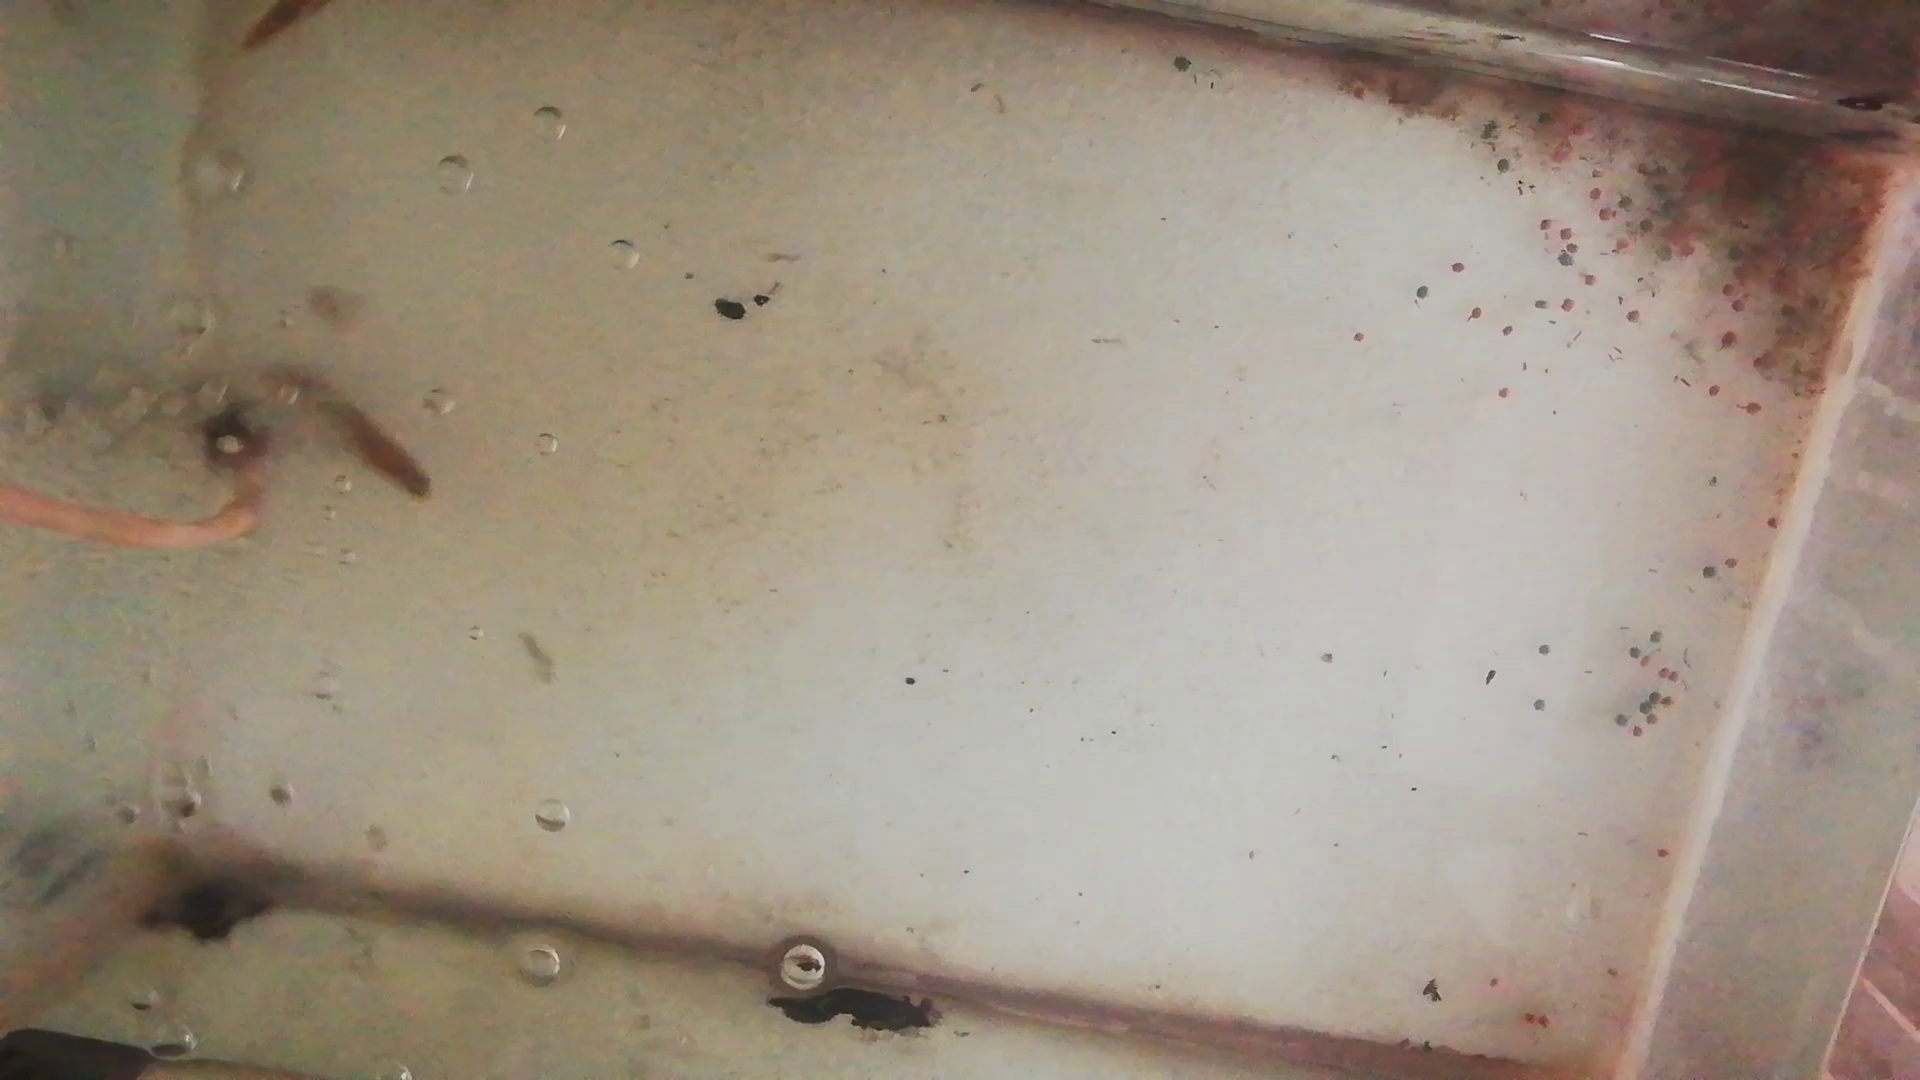fish: (266, 363, 438, 506), (236, 1, 334, 42)
